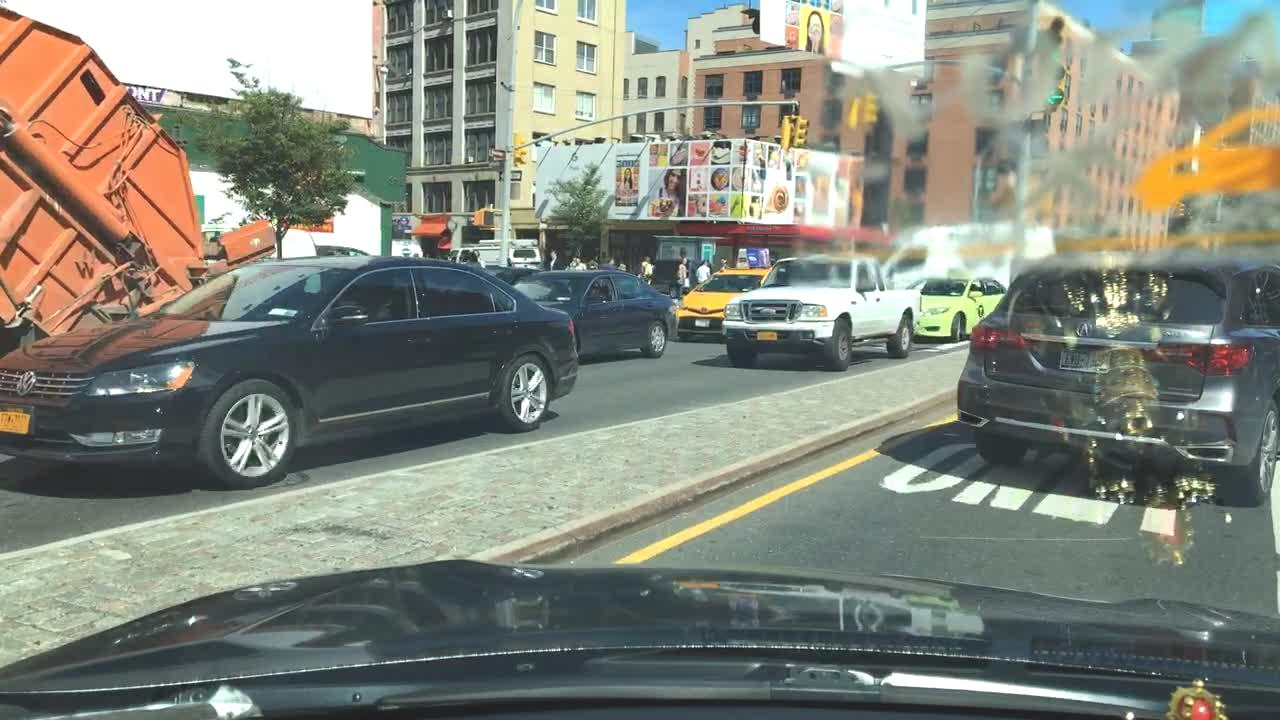acura: (1067, 311, 1110, 342)
